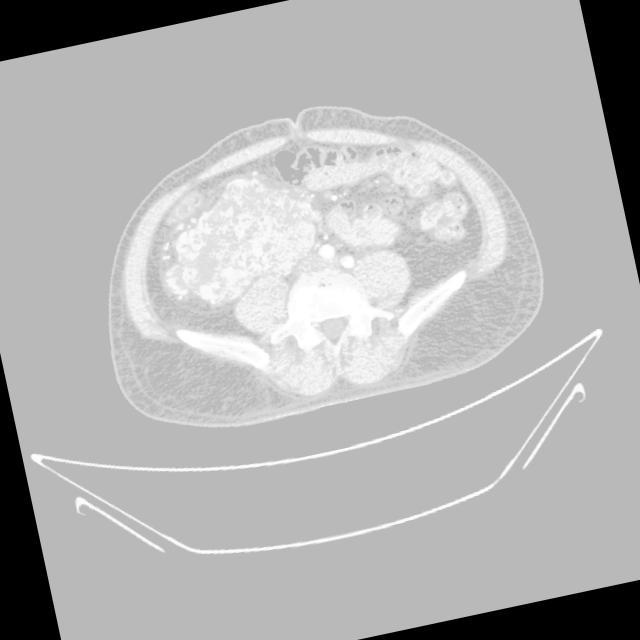TUMOR: (87, 109, 518, 383)
